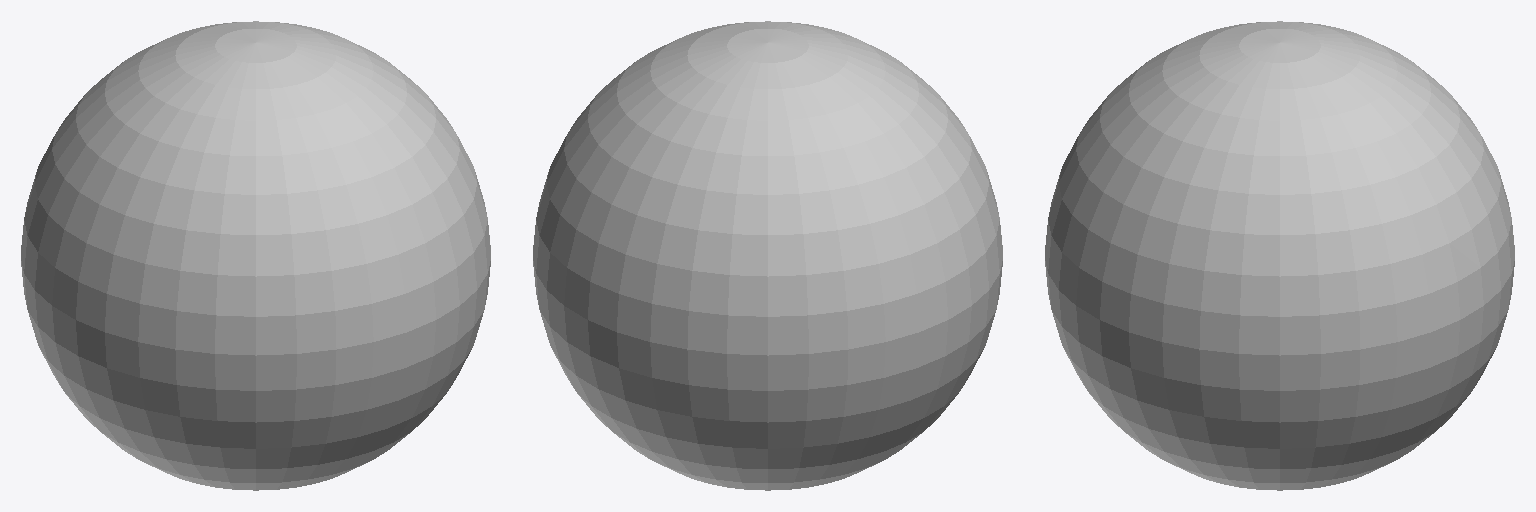
Rendered from globe.obj.
3 views of the same model, side by side, from view 1: azimuth 30°, elevation 25°; view 2: azimuth 150°, elevation 25°; view 3: azimuth 270°, elevation 25° (orthographic).
Parts seen in each view (by area): view 1: Sphere002; view 2: Sphere002; view 3: Sphere002.
Part boxes in pixels (x1,y1,x2,y2): Sphere002: (21, 21, 490, 490); Sphere002: (533, 21, 1002, 490); Sphere002: (1045, 21, 1514, 490).
Bounding box in the file's own units: 1216 × 1216 × 1216.